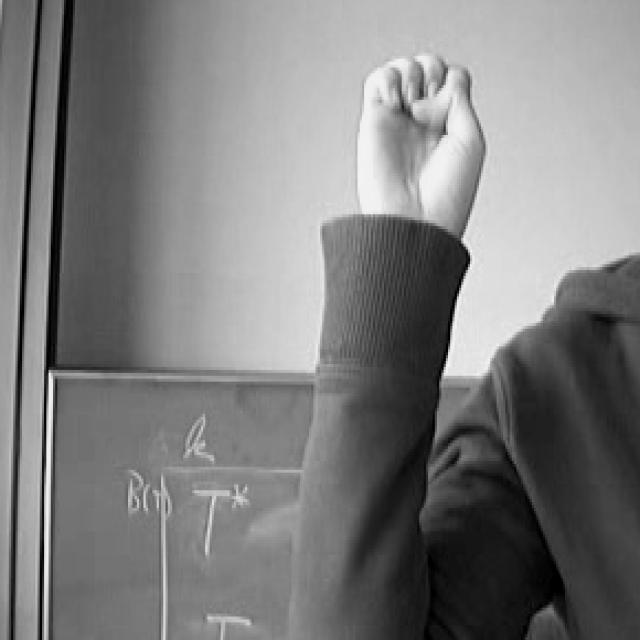E: (314, 22, 499, 260)
